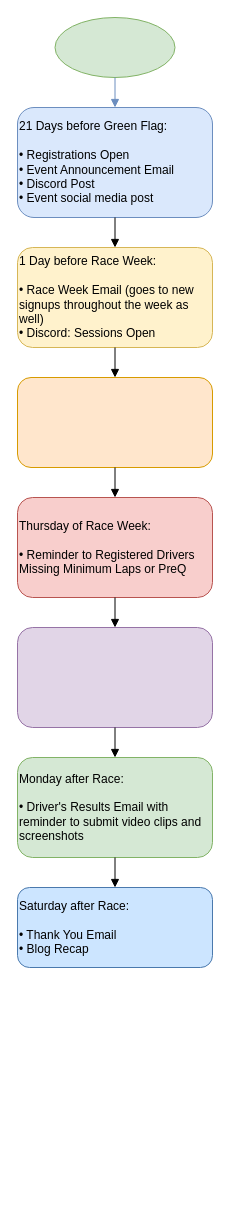
Image size: 230x1205. Some labels were removed from this diagram. Here are the shapes that lost their labels. From the top down, the centre of each, then its label:
At point 114,47: "Start (Event Created)".
At point 114,422: "Tuesday of Race Week: • Update Email • Update Social Media post".
At point 114,677: "Saturday of Race Week: • Race Day Email (all drivers who made the grid)".
